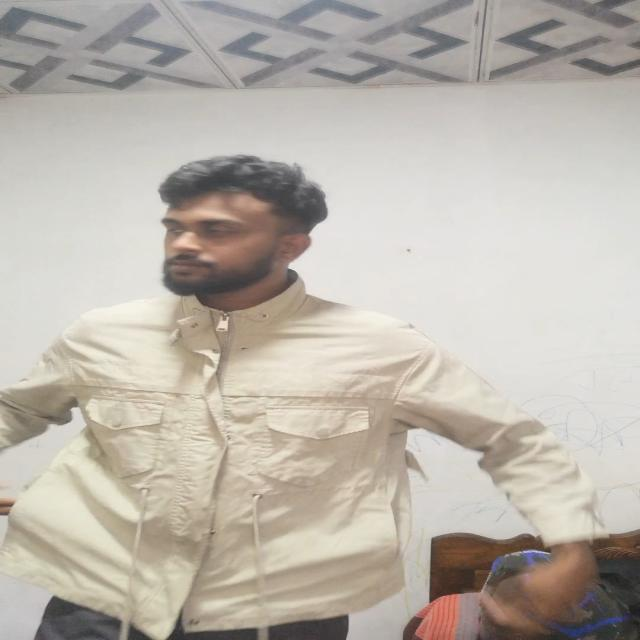Jacket_Wearer: (12, 275, 595, 640)
Person: (12, 156, 594, 640)
